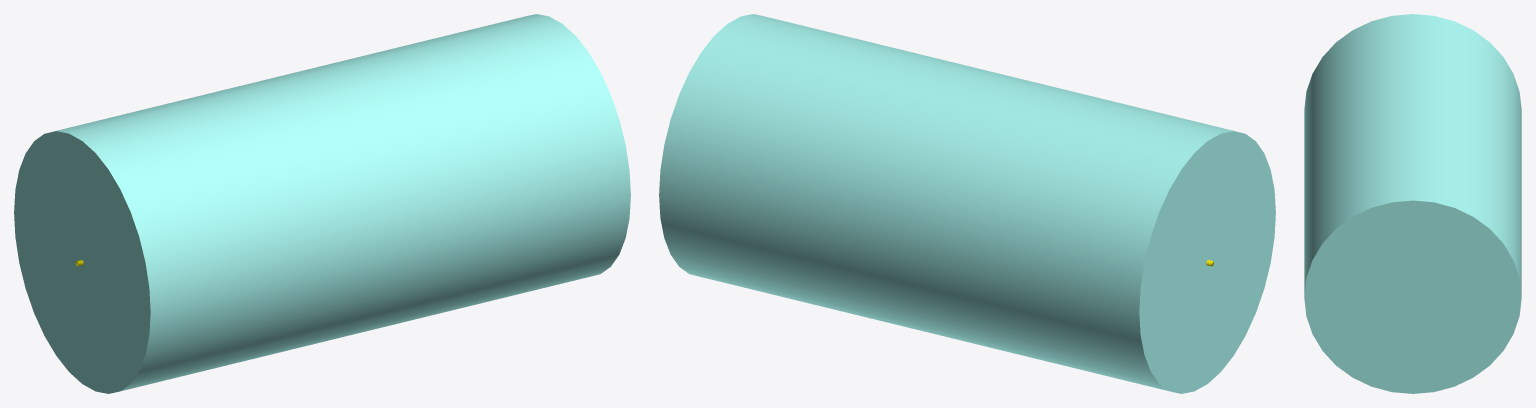
The model's file is hydrogencyanide_new.fbx.
3 views of the same model, side by side, from view 1: azimuth 30°, elevation 25°; view 2: azimuth 150°, elevation 25°; view 3: azimuth 270°, elevation 25° (orthographic). The views are drawn at different scales.
Parts seen in each view (by area): view 1: Cylinder.001; view 2: Cylinder.001; view 3: Cylinder.001.
Boxes of the visible parts, bbox=[...] form: Cylinder.001: bbox=[14, 14, 630, 393]; Cylinder.001: bbox=[659, 14, 1275, 393]; Cylinder.001: bbox=[1304, 14, 1521, 393].
Size of the model in its own units: 338 by 162 by 165.
